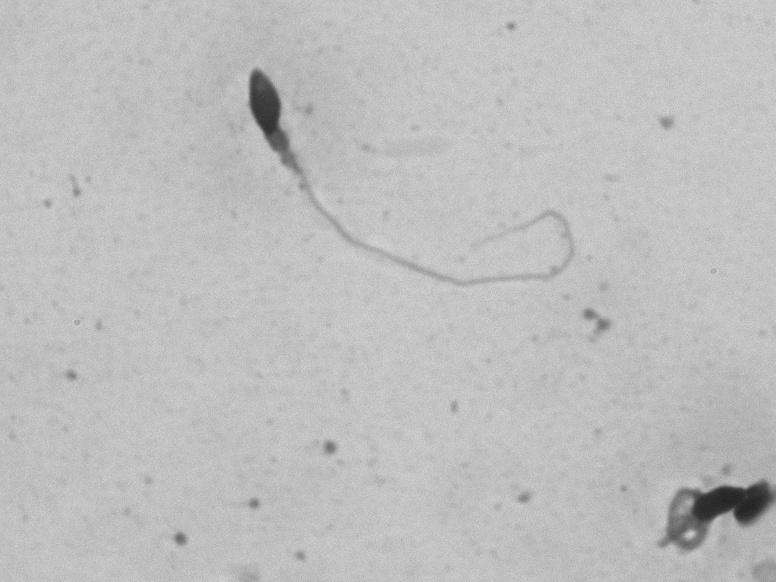Abnormal: (221, 33, 609, 328)
